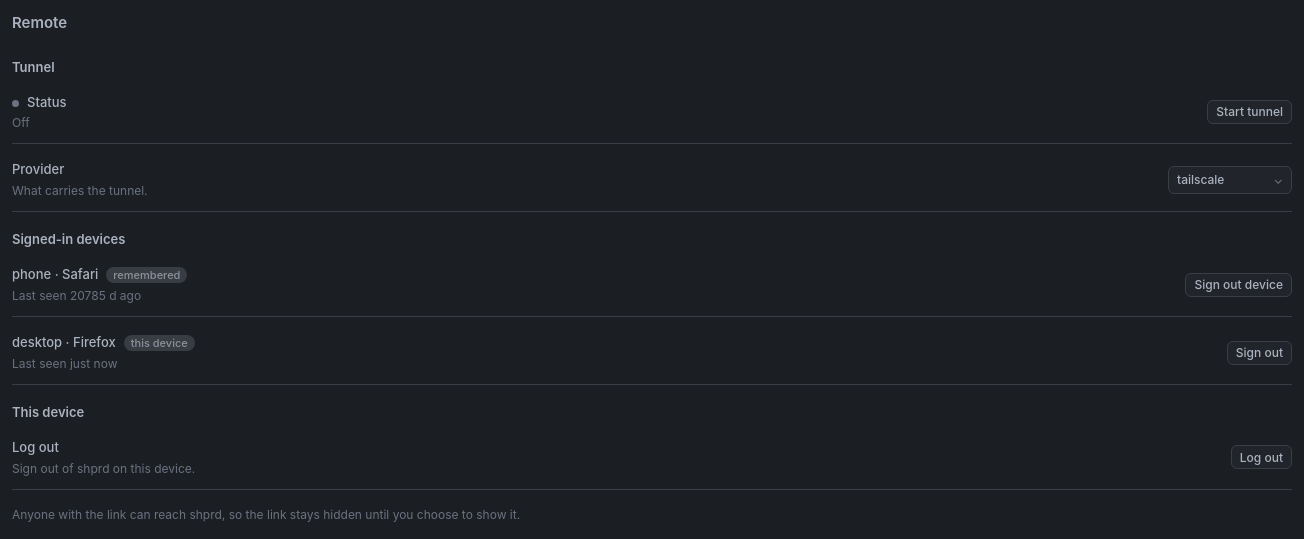
it: RemotePage: the tunnel › offers the providers and starts the one picked
Check: the text "Off" is shown, box x1=12 y1=115 x2=30 y2=130
Click the button with aria-label "Provider".
click(1230, 180)  # box x1=1168 y1=166 x2=1292 y2=194
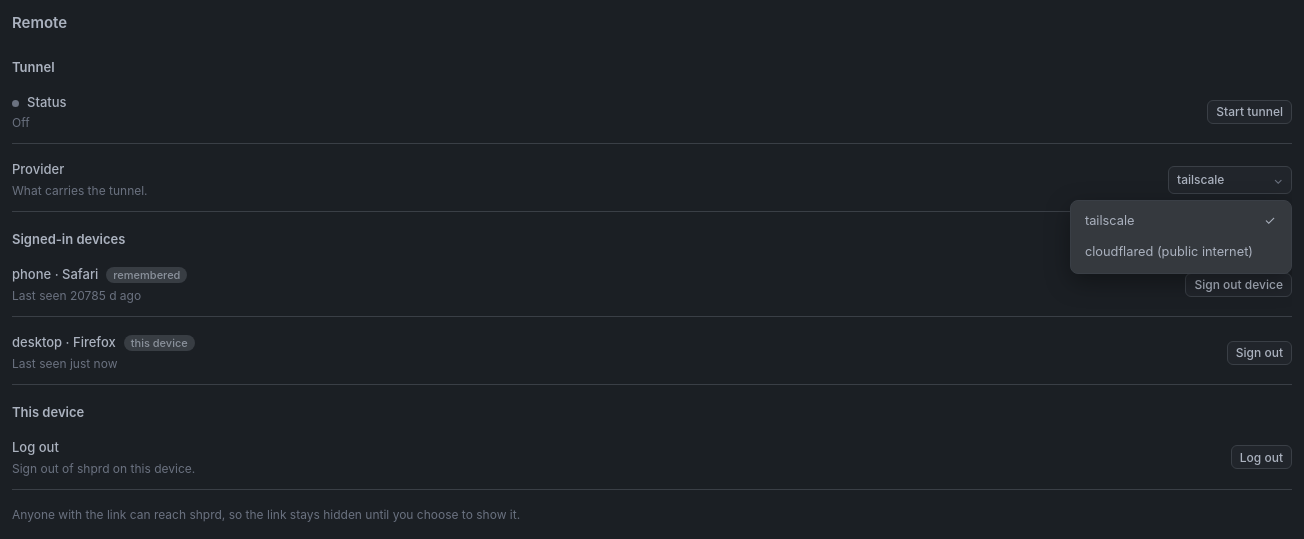
Check: the option "cloudflared (public internet)" is shown
Click the option "cloudflared (public internet)".
click(1181, 252)  # box x1=1076 y1=237 x2=1286 y2=268
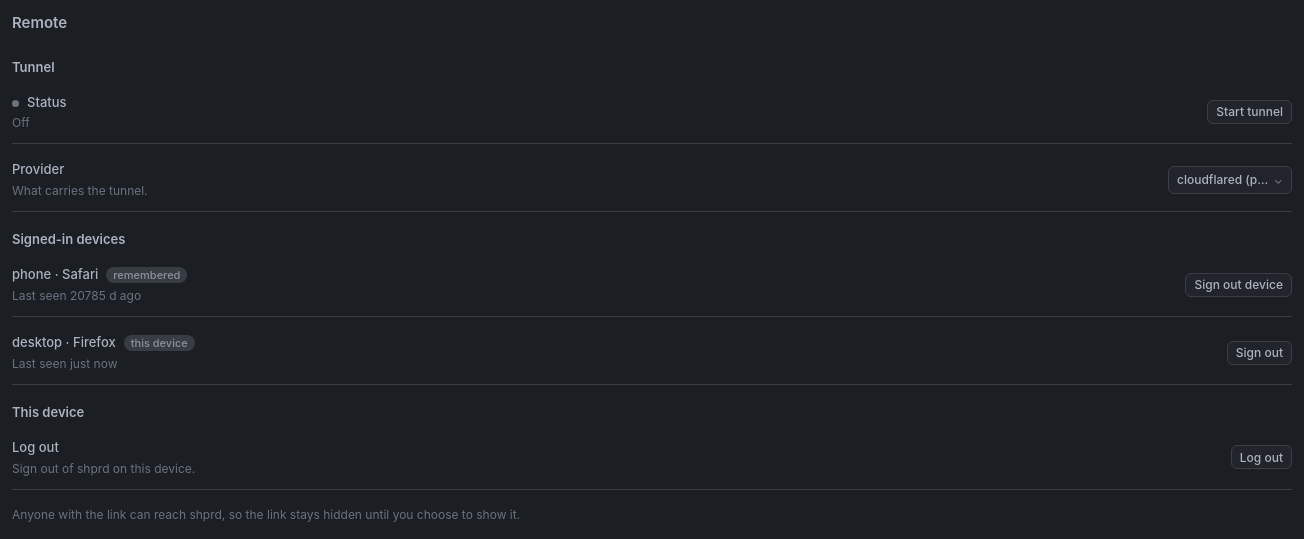
Click the button "Start tunnel".
click(1250, 112)  # box x1=1207 y1=100 x2=1292 y2=124
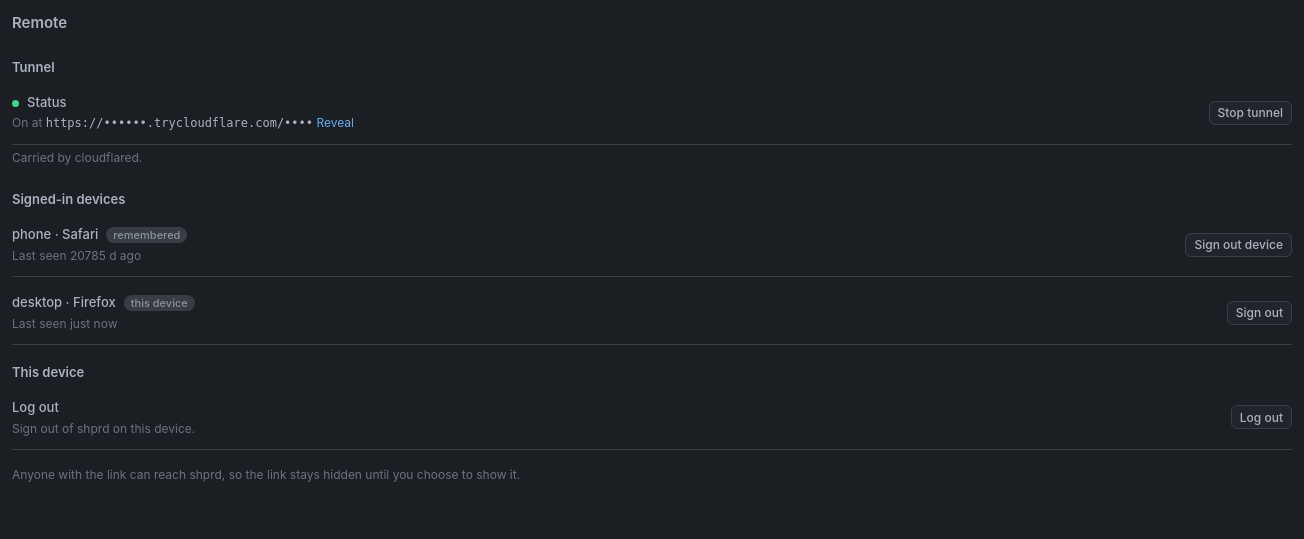
Check: the text "On at https://••••••.trycloudflare.com/•••• Reveal" is shown, box x1=12 y1=114 x2=354 y2=131
